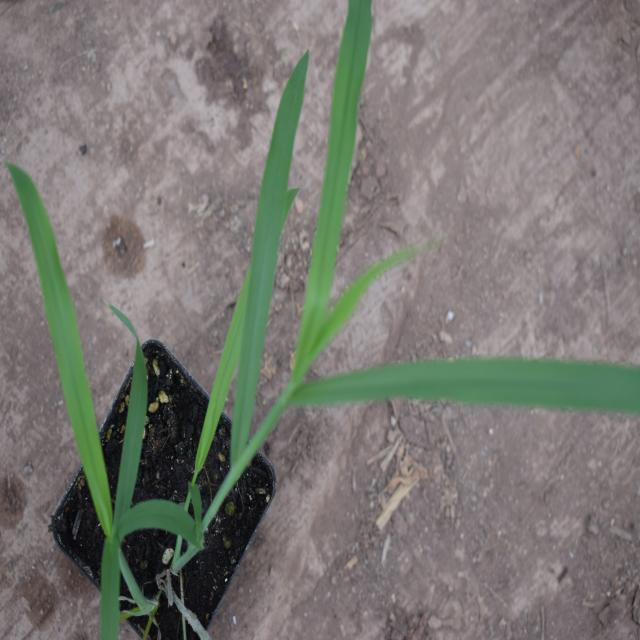crabgrass: (199, 45, 627, 450), (0, 143, 185, 606)
